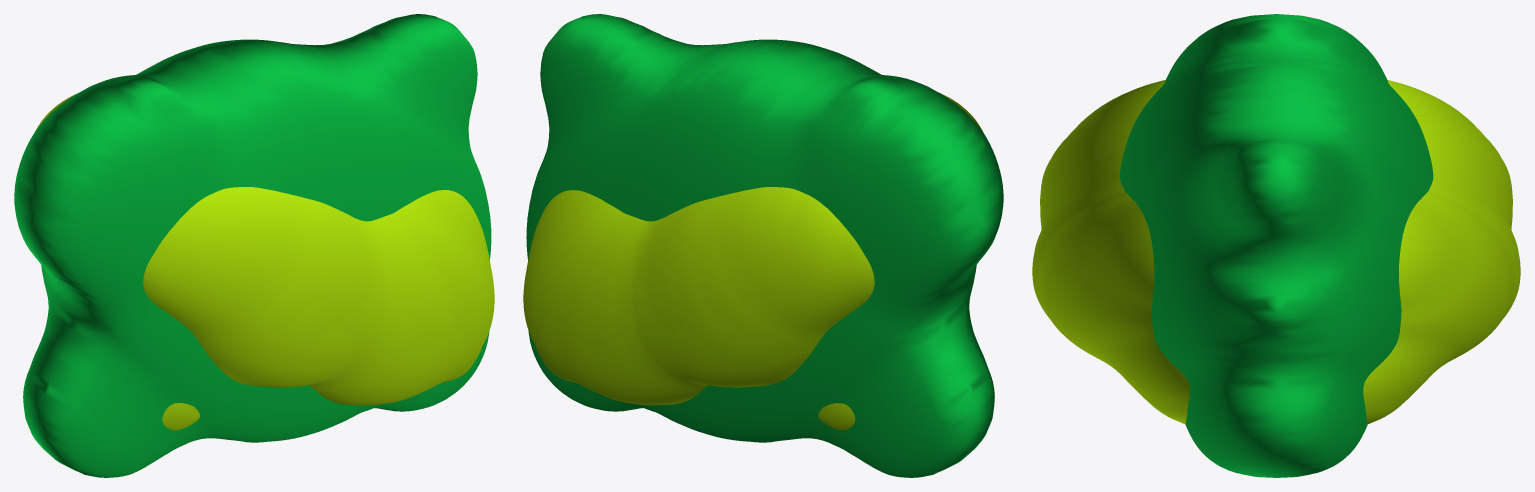
The model's file is Mucus1.fbx.
3 views of the same model, side by side, from view 1: azimuth 30°, elevation 25°; view 2: azimuth 150°, elevation 25°; view 3: azimuth 270°, elevation 25° (orthographic). The views are drawn at different scales.
Visible parts, largest first — view 1: node_id82, node_id83; view 2: node_id82, node_id83; view 3: node_id82, node_id83.
Part boxes in pixels (<box>): node_id82: <box>14,14,491,477</box>; node_id83: <box>35,93,494,430</box>; node_id82: <box>526,14,1003,477</box>; node_id83: <box>523,93,983,430</box>; node_id82: <box>1120,14,1433,477</box>; node_id83: <box>1032,80,1520,424</box>.
Size of the model in its own units: 1.1 by 0.8936 by 1.16.
